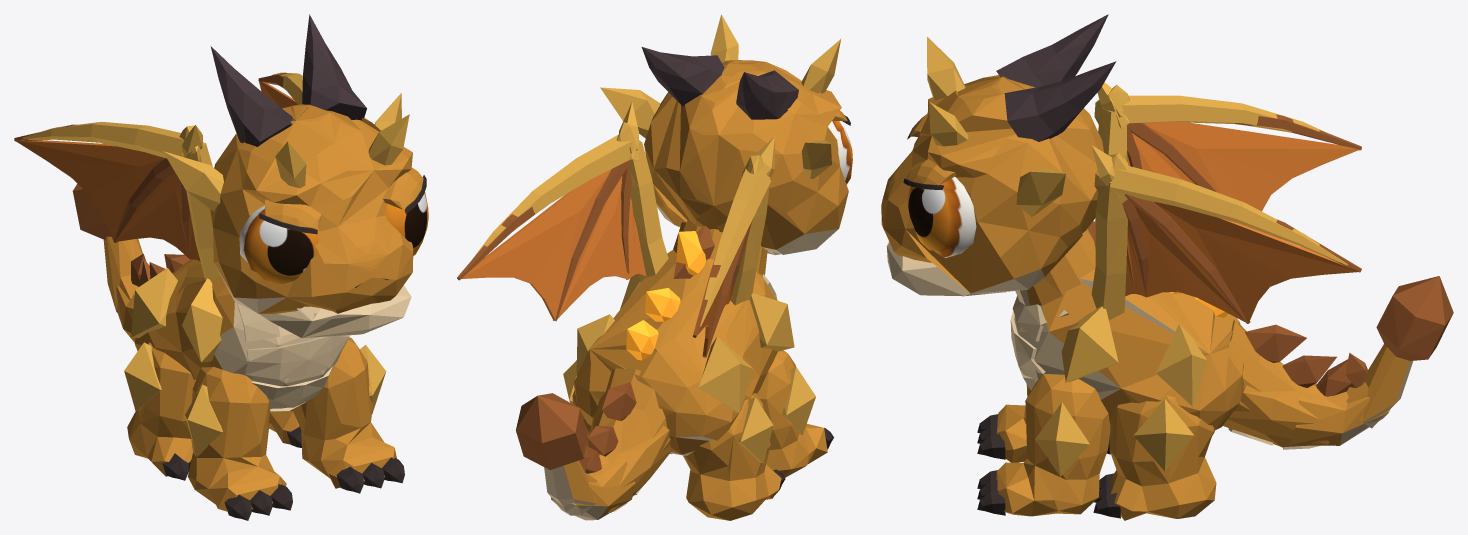
The model's file is amber_baby.glb.
3 views of the same model, side by side, from view 1: azimuth 30°, elevation 25°; view 2: azimuth 150°, elevation 25°; view 3: azimuth 270°, elevation 25° (orthographic). The views are drawn at different scales.
Visible parts, largest first — view 1: head, body, wing_R_tip, leg_FR, leg_FL, leg_BR, jaw, tail_4, wing_R, wing_L_tip, leg_BL, tail_3; view 2: head, body, wing_L_tip, leg_BR, tail_4, leg_FR, wing_R_tip, tail_2, wing_L, tail_1, tail_3, wing_R (+2 smaller); view 3: head, body, wing_L_tip, wing_R_tip, leg_FL, leg_BL, tail_4, tail_2, wing_L, tail_3, tail_1, neck (+3 smaller).
Part boxes in pixels (bbox=[...]): head: bbox=[163, 14, 428, 313]; body: bbox=[131, 259, 349, 412]; wing_R_tip: bbox=[14, 122, 202, 259]; leg_FR: bbox=[185, 366, 292, 520]; leg_FL: bbox=[293, 337, 404, 493]; leg_BR: bbox=[124, 342, 195, 480]; jaw: bbox=[259, 285, 411, 338]; tail_4: bbox=[72, 184, 145, 312]; wing_R: bbox=[182, 142, 220, 281]; wing_L_tip: bbox=[258, 72, 302, 108]; leg_BL: bbox=[269, 409, 301, 447]; tail_3: bbox=[116, 260, 150, 342]; head: bbox=[600, 14, 852, 254]; body: bbox=[573, 231, 794, 455]; wing_L_tip: bbox=[457, 101, 638, 321]; leg_BR: bbox=[683, 393, 785, 520]; tail_4: bbox=[516, 393, 597, 515]; leg_FR: bbox=[757, 350, 833, 477]; wing_R_tip: bbox=[693, 136, 774, 357]; tail_2: bbox=[586, 407, 672, 512]; wing_L: bbox=[629, 140, 668, 282]; tail_1: bbox=[593, 368, 670, 450]; tail_3: bbox=[551, 446, 635, 520]; wing_R: bbox=[730, 173, 770, 305]; head: bbox=[881, 14, 1116, 293]; body: bbox=[1010, 269, 1244, 430]; wing_L_tip: bbox=[1091, 145, 1361, 323]; wing_R_tip: bbox=[1094, 82, 1361, 211]; leg_FL: bbox=[977, 373, 1110, 516]; leg_BL: bbox=[1093, 395, 1216, 520]; tail_4: bbox=[1345, 276, 1453, 428]; tail_2: bbox=[1223, 355, 1336, 449]; wing_L: bbox=[1091, 182, 1135, 320]; tail_3: bbox=[1289, 359, 1390, 445]; tail_1: bbox=[1229, 320, 1306, 411]; neck: bbox=[1015, 221, 1095, 306].
Size of the model in its own units: 1.94 by 3.22 by 3.78.
10 materials, 1 textured.
